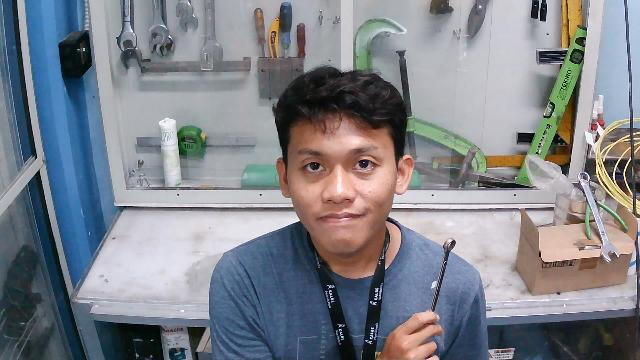kunci_pass_13: (415, 233, 462, 326)
